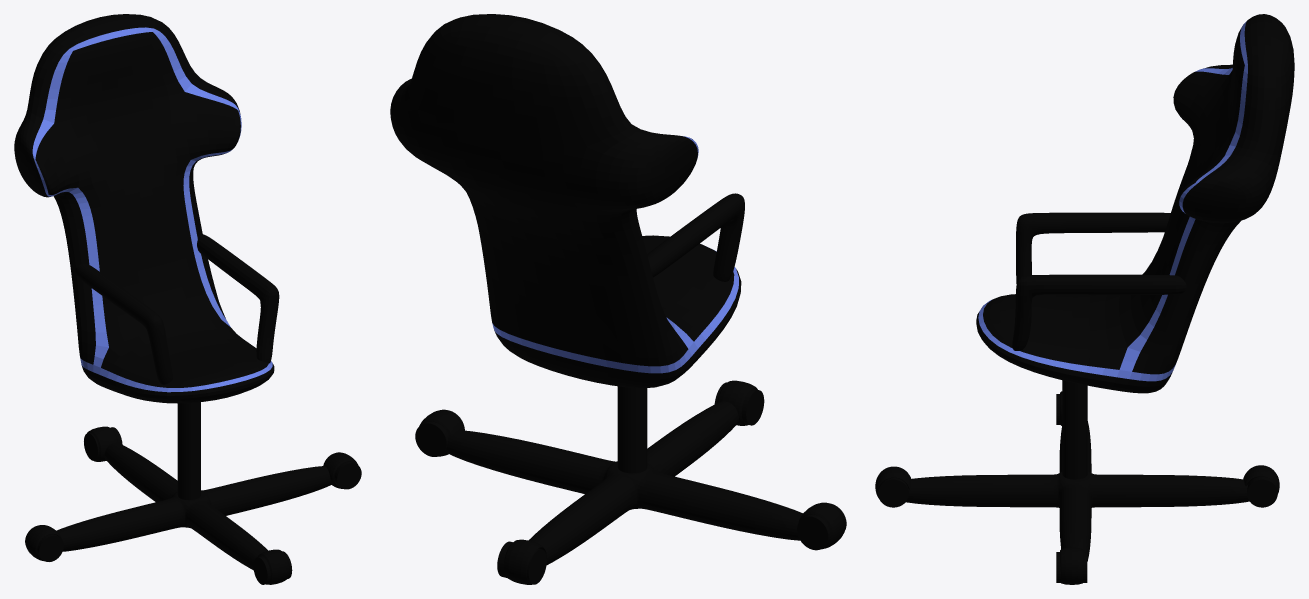
Rendered from Silla gamer.glb.
The picture shows the model from 3 angles, left to right: view 1: azimuth 30°, elevation 25°; view 2: azimuth 150°, elevation 25°; view 3: azimuth 270°, elevation 25°; orthographic projection. The views are drawn at different scales.
Visible parts, largest first — view 1: Cylinder.003; view 2: Cylinder.003; view 3: Cylinder.003.
Part boxes in pixels (x1,y1,x2,y2): Cylinder.003: (14,14,361,584); Cylinder.003: (390,14,846,584); Cylinder.003: (875,14,1294,584).
Size of the model in its own units: 1.04 by 1.33 by 1.06.
